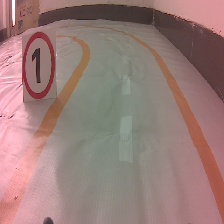limit: (20, 30, 61, 103)
